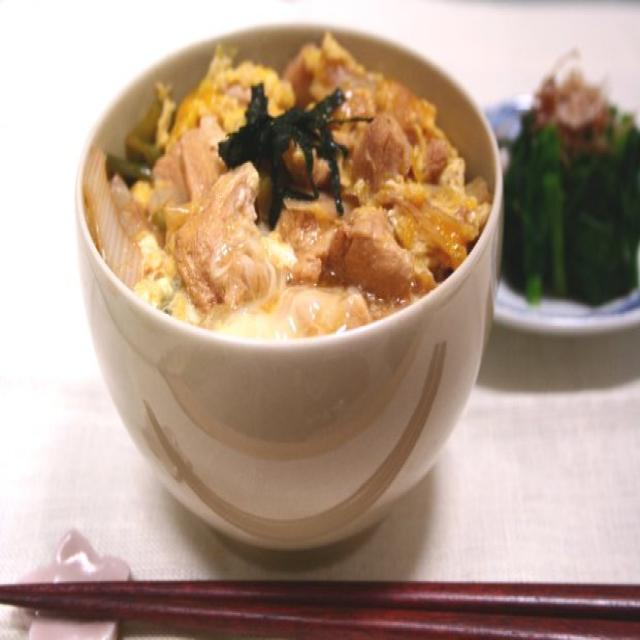米饭主食: (46, 10, 406, 640)
